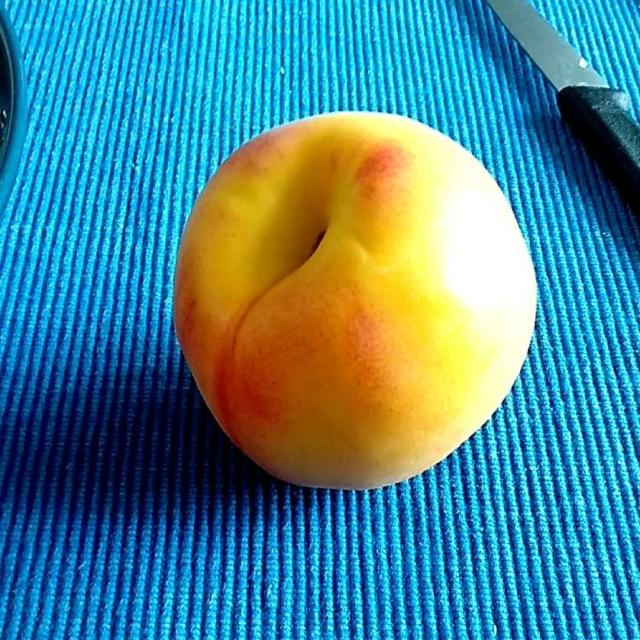peach: (172, 115, 536, 486)
